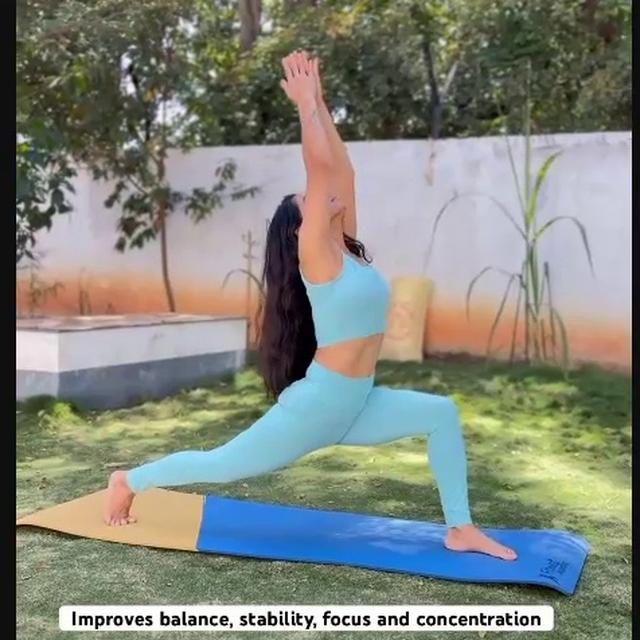Warrior_I: (88, 48, 532, 571)
